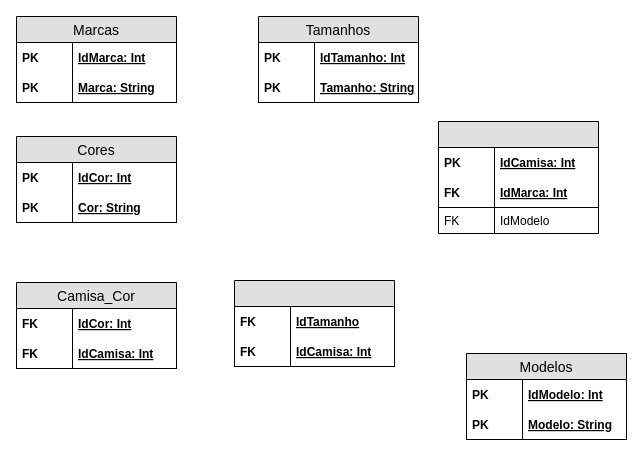
Some shapes in this 643 by 456 pixel diagram are drawn without their labels. The shapes that lost their labels are listed below. From the top down, each one's box as (x1, y1, x2, y2) in pixels, then its label:
(438, 120, 598, 234): Camisas
(234, 280, 394, 366): Camisa_Tamanho
